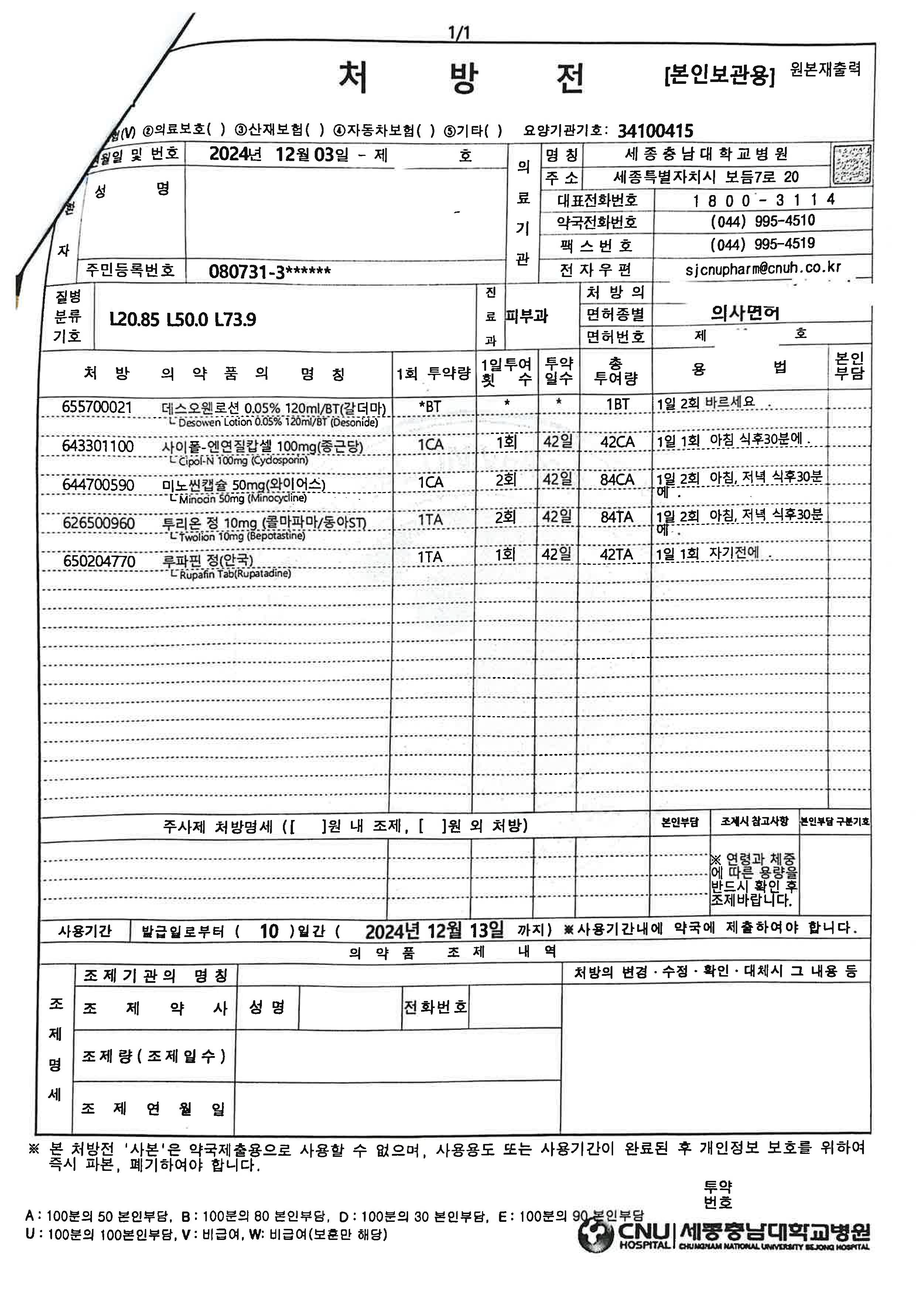row: (33, 940, 563, 1137), (32, 813, 870, 917), (31, 43, 878, 145), (28, 143, 508, 284), (565, 942, 869, 1128), (507, 143, 872, 280), (25, 351, 871, 392), (24, 467, 870, 506), (25, 392, 872, 430), (25, 544, 870, 581), (25, 282, 476, 351), (24, 431, 869, 467), (24, 506, 869, 541), (32, 917, 872, 940), (580, 284, 872, 347), (476, 284, 579, 348)
